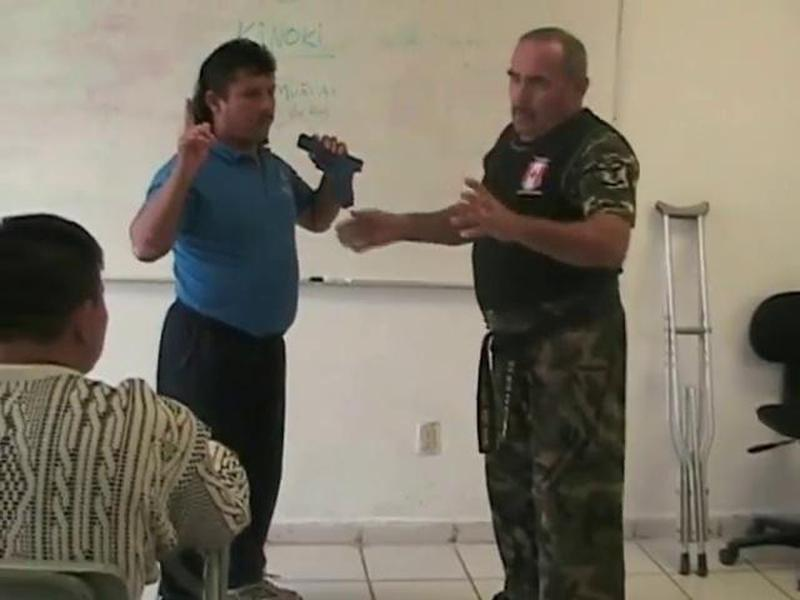Pistola: (289, 120, 370, 228)
